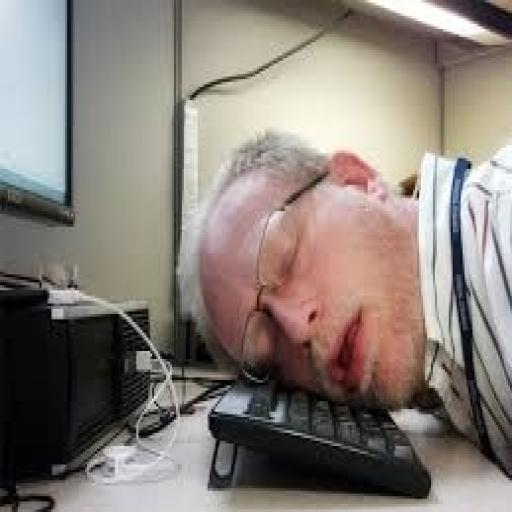sleeping: (176, 116, 510, 491)
